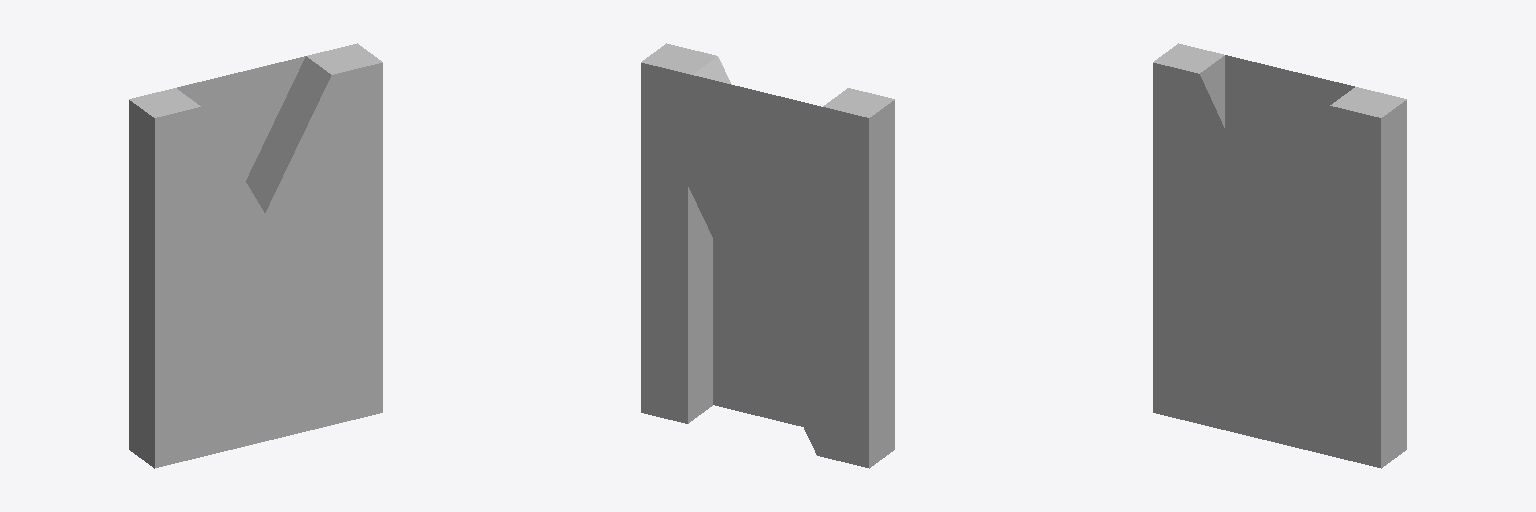
The picture shows the model from 3 angles: view 1: azimuth 30°, elevation 25°; view 2: azimuth 150°, elevation 25°; view 3: azimuth 330°, elevation 25°; orthographic projection.
Visible parts, largest first — view 1: Mesh1 UNIVERSITY1 Model; view 2: Mesh1 UNIVERSITY1 Model; view 3: Mesh1 UNIVERSITY1 Model.
Boxes of the visible parts, box(x1,y1,x2,y2) form: Mesh1 UNIVERSITY1 Model: box(129, 43, 382, 468); Mesh1 UNIVERSITY1 Model: box(641, 43, 894, 468); Mesh1 UNIVERSITY1 Model: box(1153, 43, 1406, 468).
Size of the model in its own units: 0.2809 by 0.4111 by 0.055.